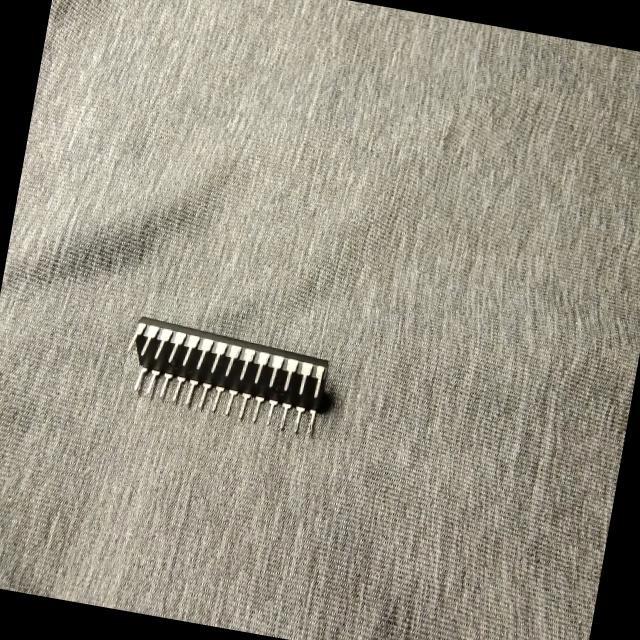atmega: (118, 312, 334, 442)
